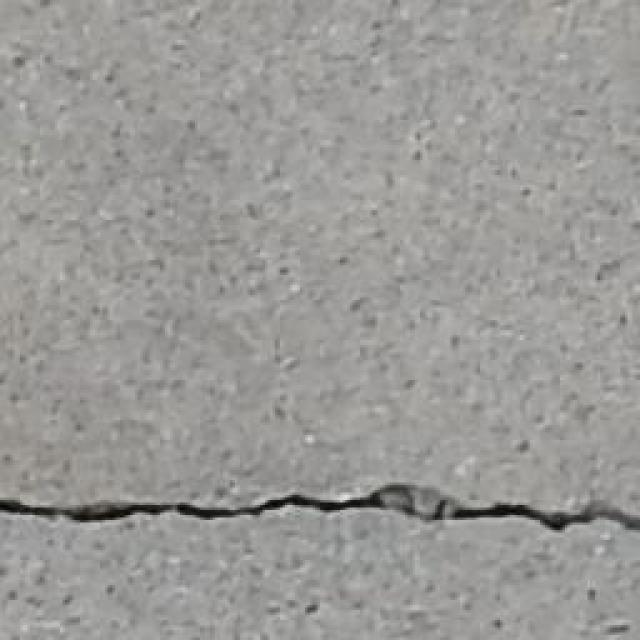concrete-crack: (0, 480, 640, 539)
